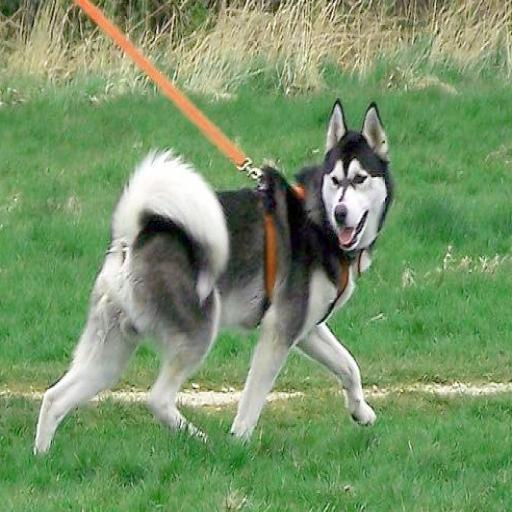dog_face: (322, 104, 391, 251)
